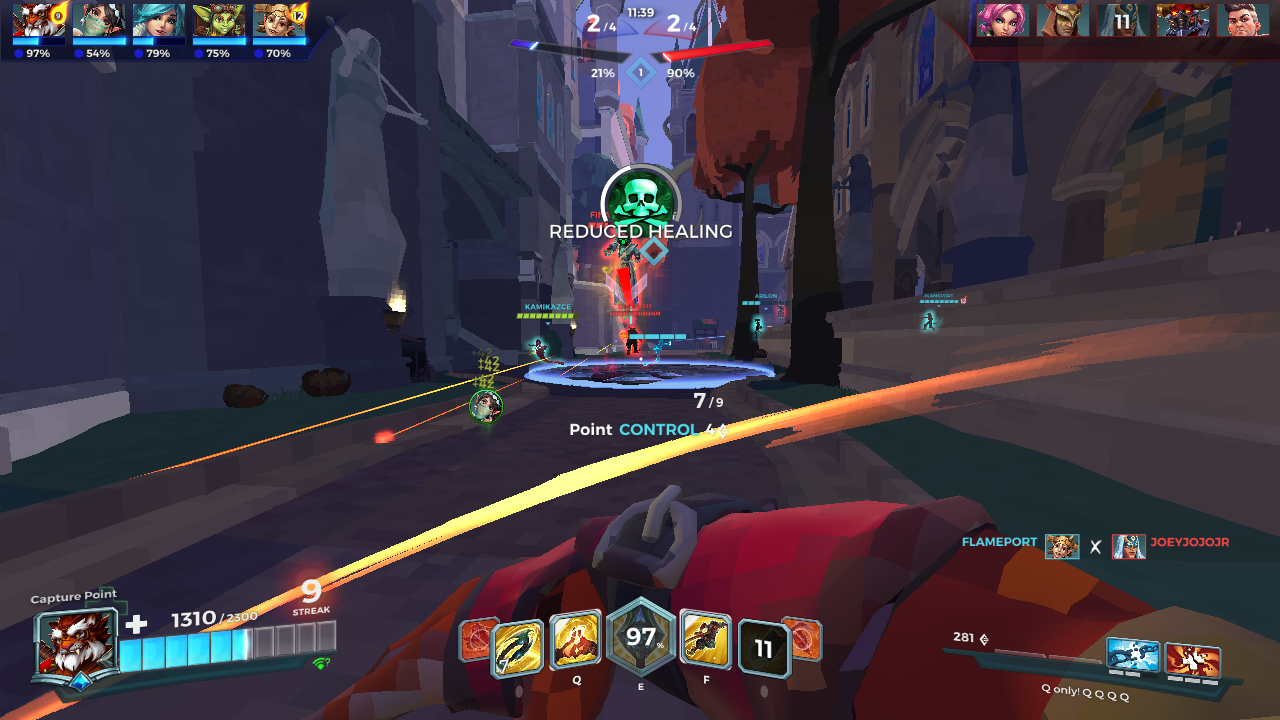model: (603, 221, 646, 308), (620, 324, 644, 360), (776, 303, 787, 320)
